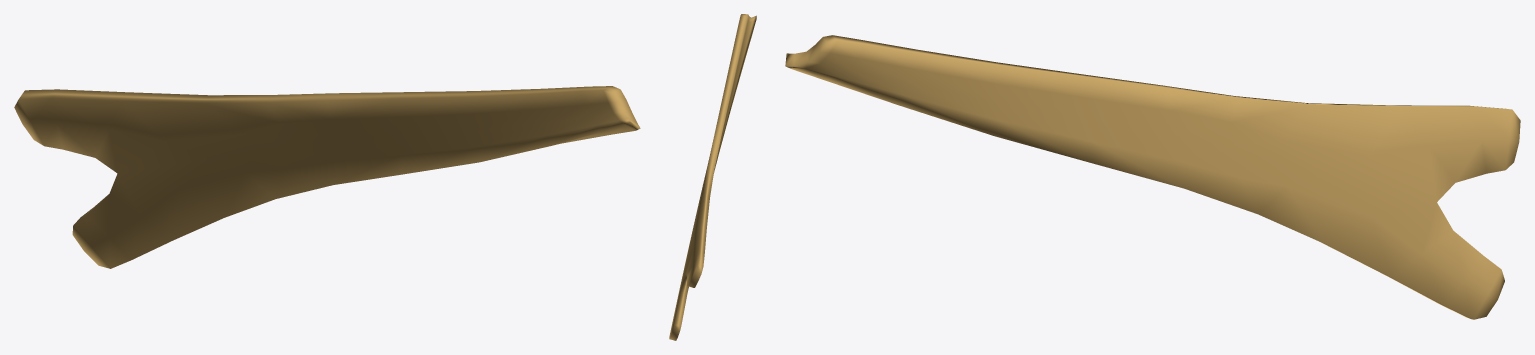
3 renders of one model, left to right at view 1: azimuth 30°, elevation 25°; view 2: azimuth 150°, elevation 25°; view 3: azimuth 270°, elevation 25°, orthographic. The views are drawn at different scales.
Parts seen in each view (by area): view 1: 右侧蝶下颌韧带; view 2: 右侧蝶下颌韧带; view 3: 右侧蝶下颌韧带.
Part boxes in pixels (box(x1,y1,x2,y2)): 右侧蝶下颌韧带: box(14, 86, 640, 268); 右侧蝶下颌韧带: box(669, 14, 756, 340); 右侧蝶下颌韧带: box(785, 35, 1520, 319).
Size of the model in its own units: 0.0158 by 0.021 by 0.038.
